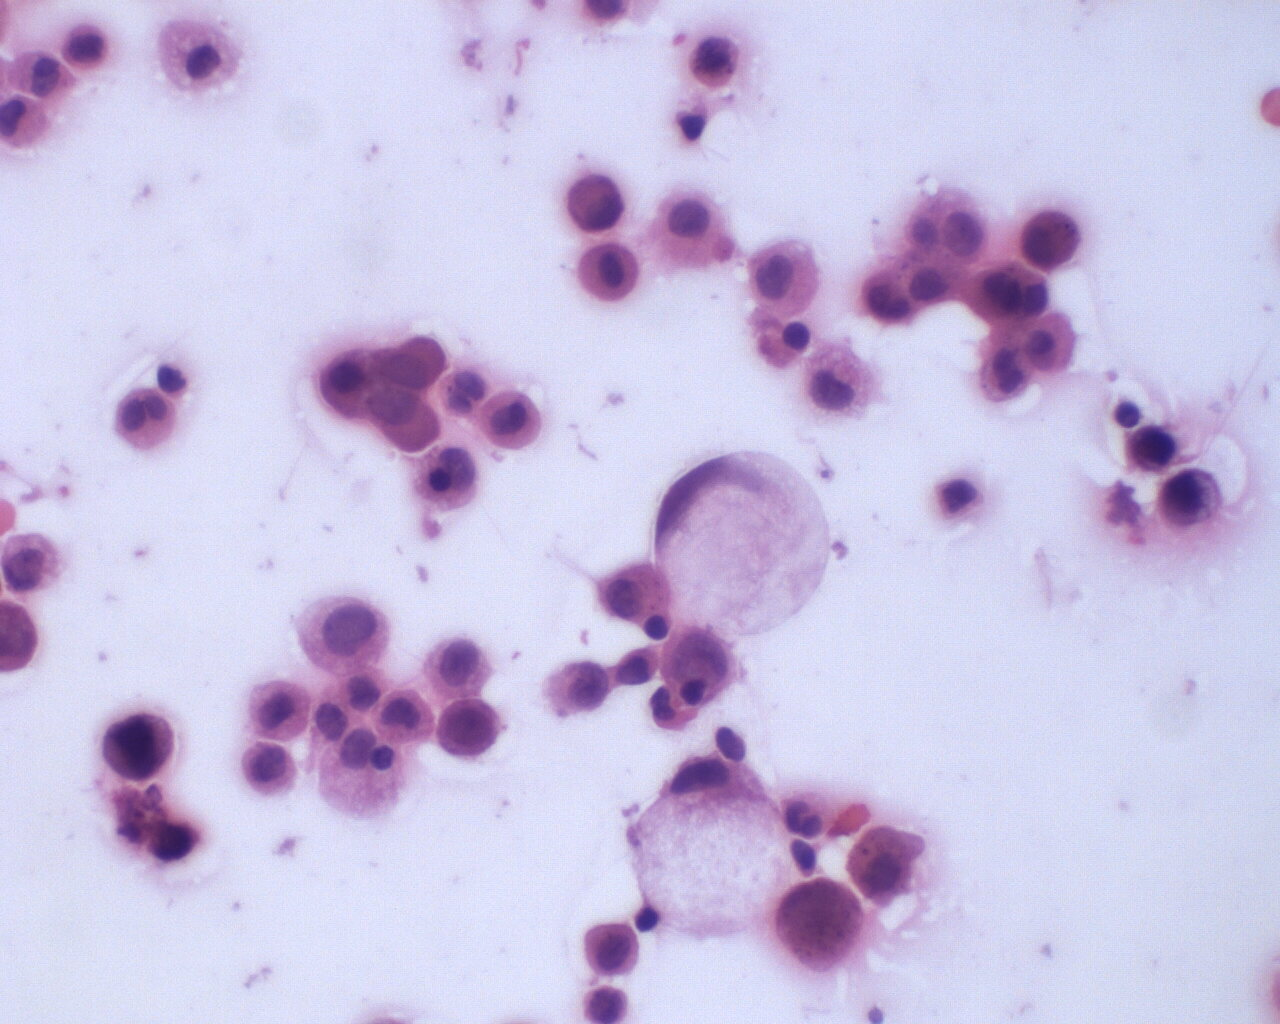ab: (777, 875, 869, 975), (657, 623, 745, 702), (98, 705, 179, 786), (360, 381, 443, 453), (1017, 201, 1083, 277), (436, 693, 504, 762), (1155, 467, 1228, 528), (239, 741, 297, 797), (1127, 418, 1178, 478), (583, 984, 633, 1024)
histo: (656, 446, 835, 632), (629, 751, 795, 941)
meso: (747, 238, 825, 319), (657, 187, 734, 269), (479, 388, 546, 455), (575, 241, 645, 306), (578, 920, 643, 980)
